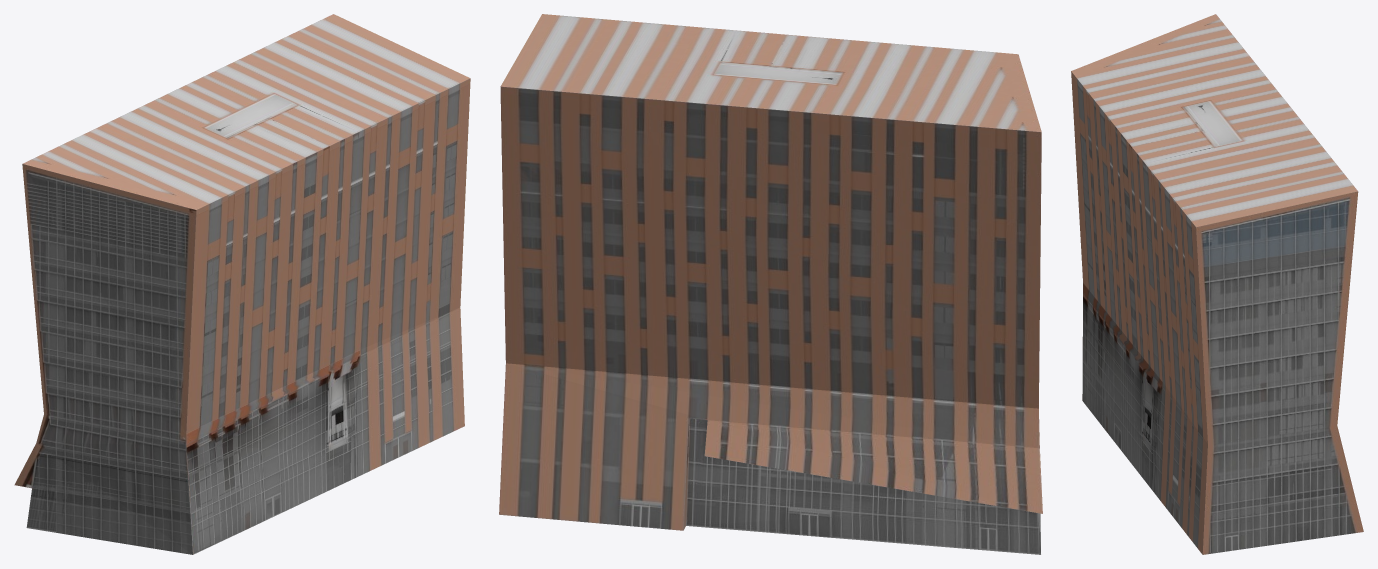
3 views of the same model, side by side, from view 1: azimuth 30°, elevation 25°; view 2: azimuth 150°, elevation 25°; view 3: azimuth 270°, elevation 25° (orthographic). The views are drawn at different scales.
Parts seen in each view (by area): view 1: A.002; view 2: A.002; view 3: A.002.
Part boxes in pixels (<box>): A.002: <box>14,14,470,554</box>; A.002: <box>499,14,1042,554</box>; A.002: <box>1071,14,1363,554</box>.
Bounding box in the file's own units: 64.01 × 50.26 × 39.07.
1 material, 1 textured.
